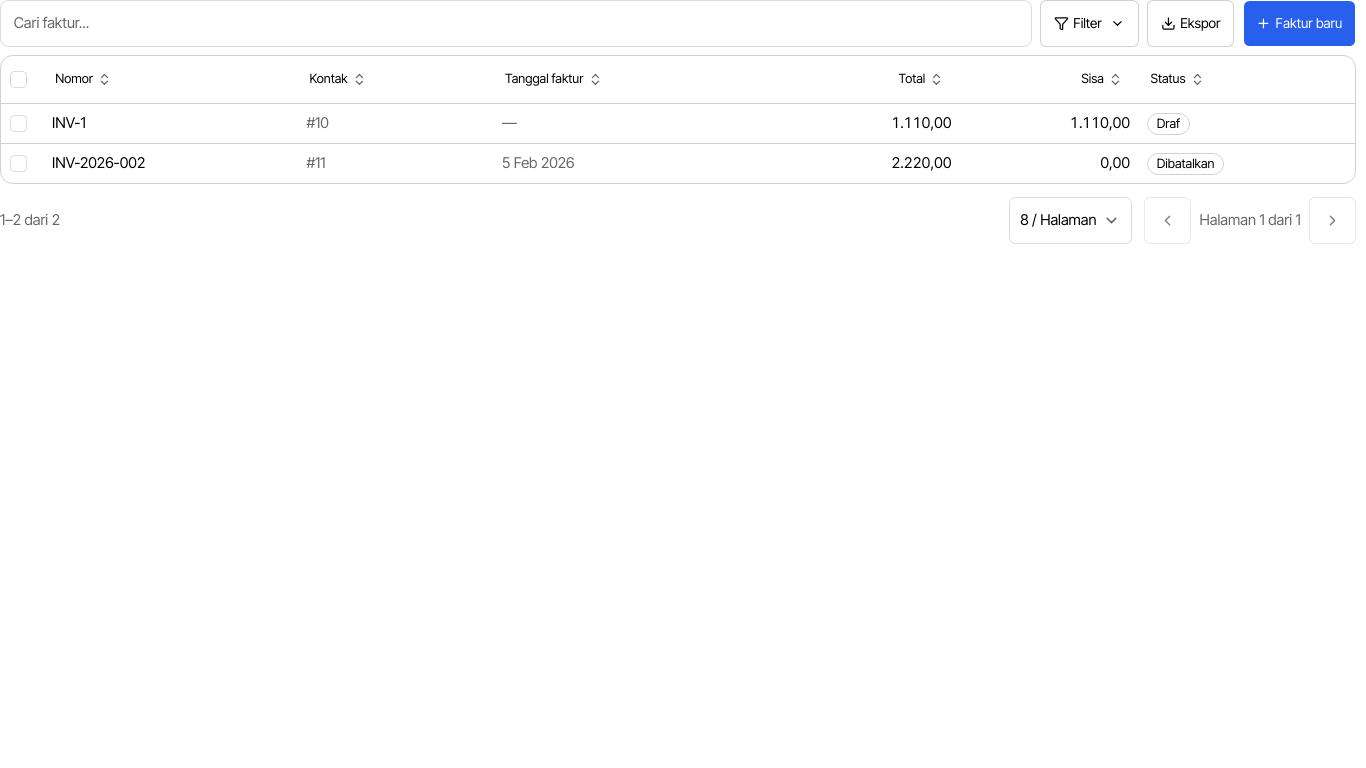
Test case: InvoicesSection extra2 › closes the dialog from the cancel button
The image size is (1366, 768).
Expected: the link "INV-2026-002" is shown, [52, 154, 145, 172]
Step 1. Click the button "Faktur baru" → (1299, 23), box [1243, 0, 1356, 47]
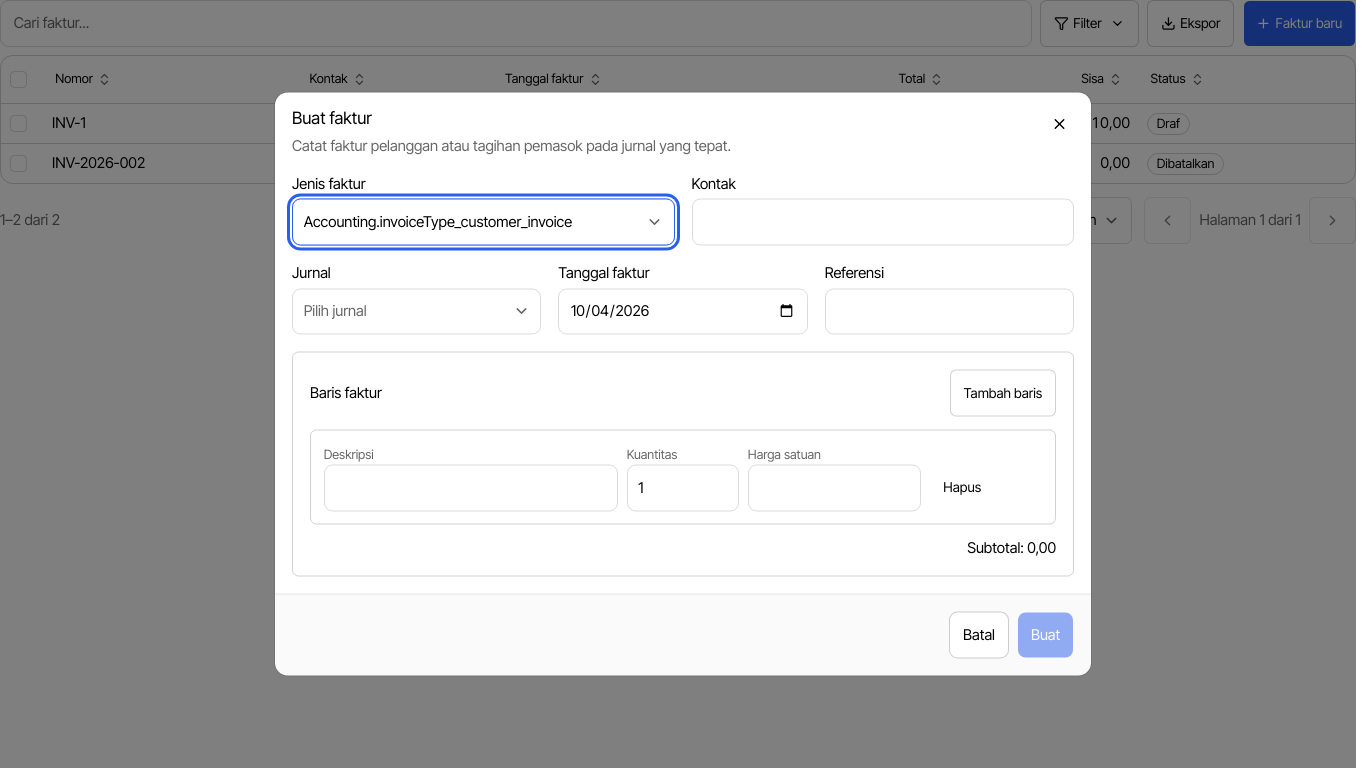
Step 2. Click the button "Batal" → (979, 635), box [949, 612, 1009, 659]
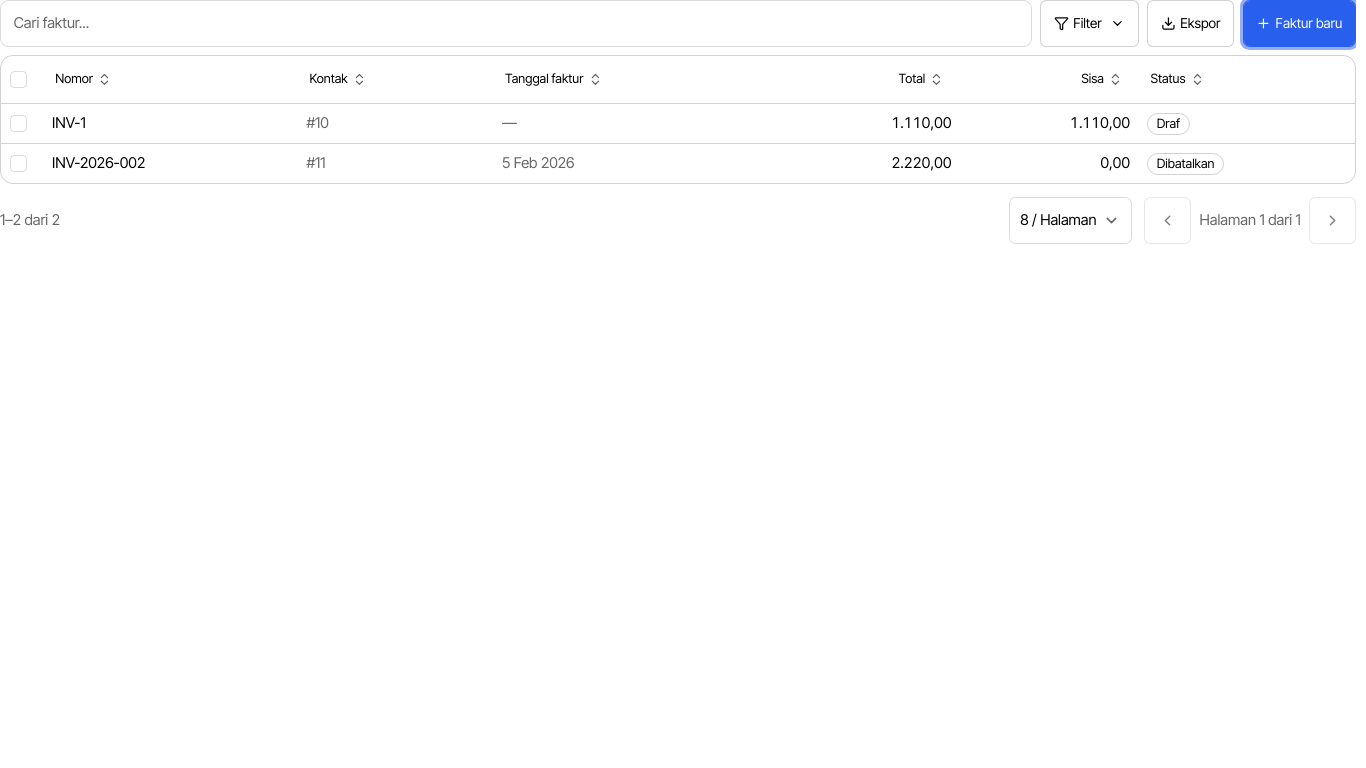
Result: the dialog is gone
